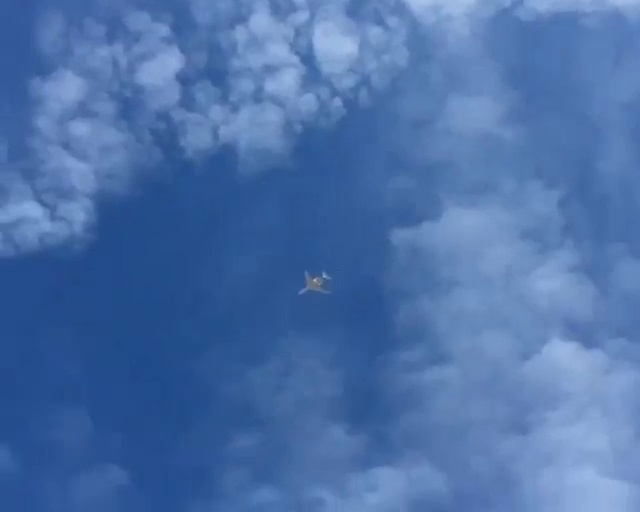AIRPLANE: (185, 172, 312, 285)
